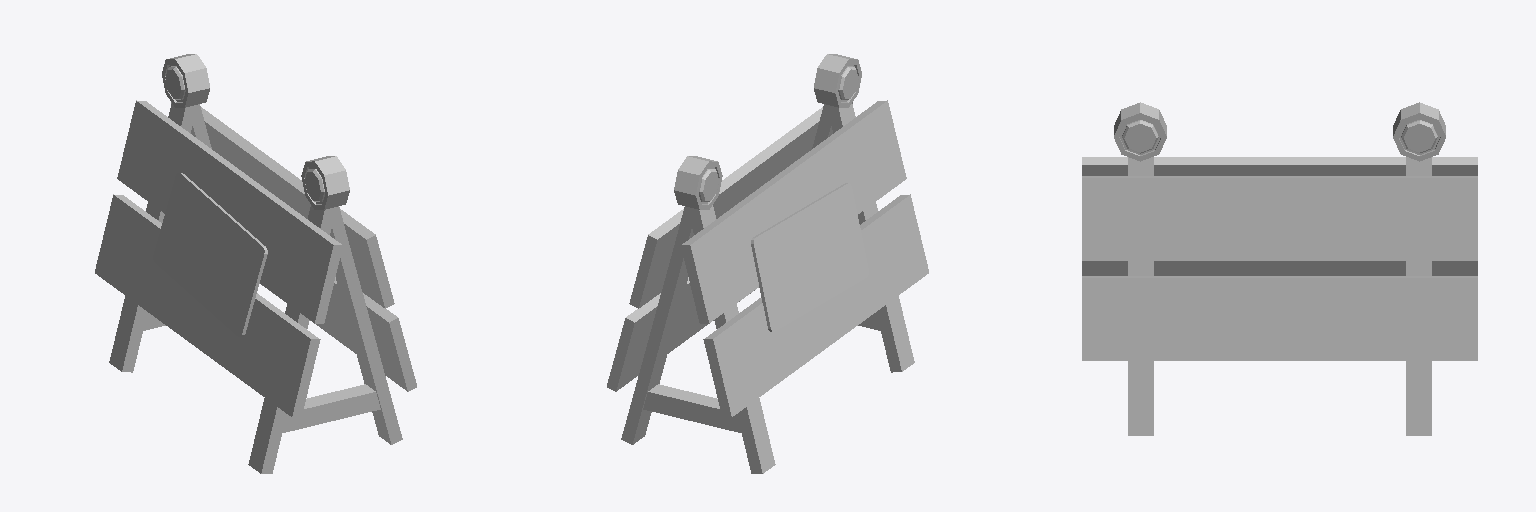
The model's file is reactor.obj.
3 views of the same model, side by side, from view 1: azimuth 30°, elevation 25°; view 2: azimuth 150°, elevation 25°; view 3: azimuth 270°, elevation 25° (orthographic).
Visible parts, largest first — view 1: Куб.002, Куб.003, Куб.004, Цилиндр, Куб; view 2: Куб.002, Куб.003, Куб.004, Цилиндр, Куб; view 3: Куб.002, Куб.004, Цилиндр.
Part boxes in pixels (x1,y1,x2,y2): Куб.002: (95,100,416,417); Куб.003: (153,173,267,336); Куб.004: (109,104,402,473); Цилиндр: (162,54,349,209); Куб: (143,313,380,432); Куб.002: (607,100,928,417); Куб.003: (751,183,868,331); Куб.004: (621,104,914,473); Цилиндр: (674,54,861,209); Куб: (643,313,880,432); Куб.002: (1082,157,1477,360); Куб.004: (1128,157,1431,435); Цилиндр: (1114,102,1445,161).
Size of the model in its own units: 1.26 by 2.53 by 3.05.